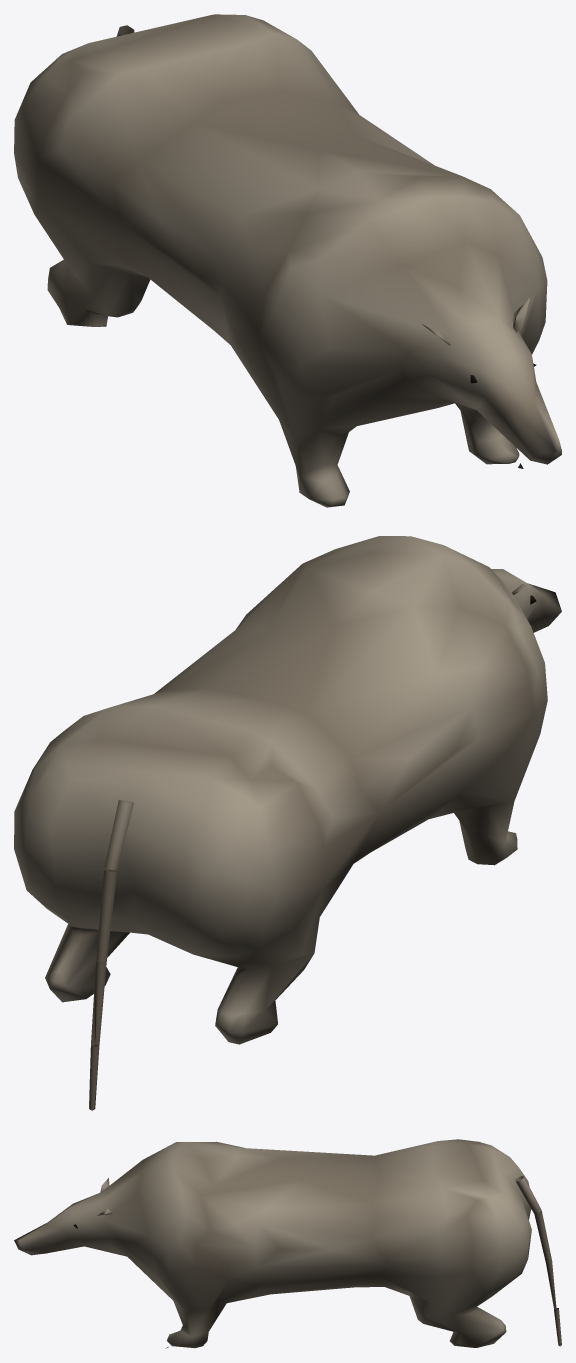
The model's file is guerteltier.glb.
3 renders of one model, top to bottom at view 1: azimuth 30°, elevation 25°; view 2: azimuth 150°, elevation 25°; view 3: azimuth 270°, elevation 25°, orthographic. The views are drawn at different scales.
Parts seen in each view (by area): view 1: lack; view 2: lack; view 3: lack.
Boxes of the visible parts, x1,y1,x2,y2 form: lack: (14, 14, 561, 507); lack: (14, 536, 561, 1110); lack: (14, 1139, 561, 1348).
Size of the model in its own units: 0.2335 by 0.257 by 0.6548.
